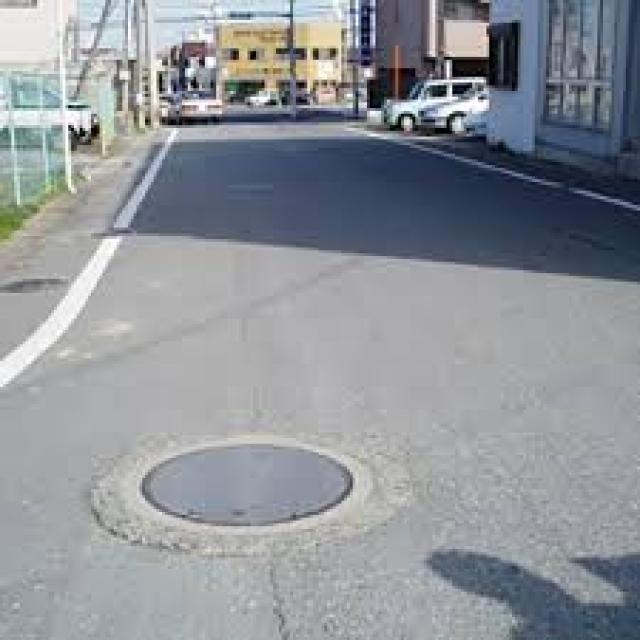manhole: (143, 443, 355, 527)
